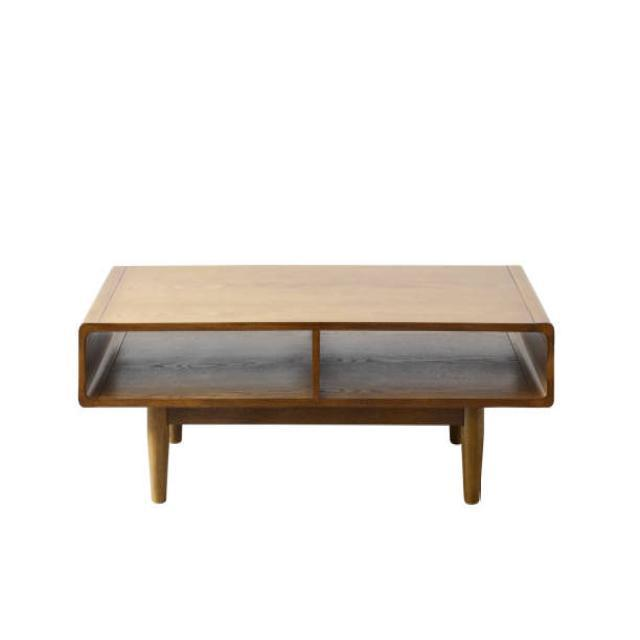table: (78, 262, 556, 505)
